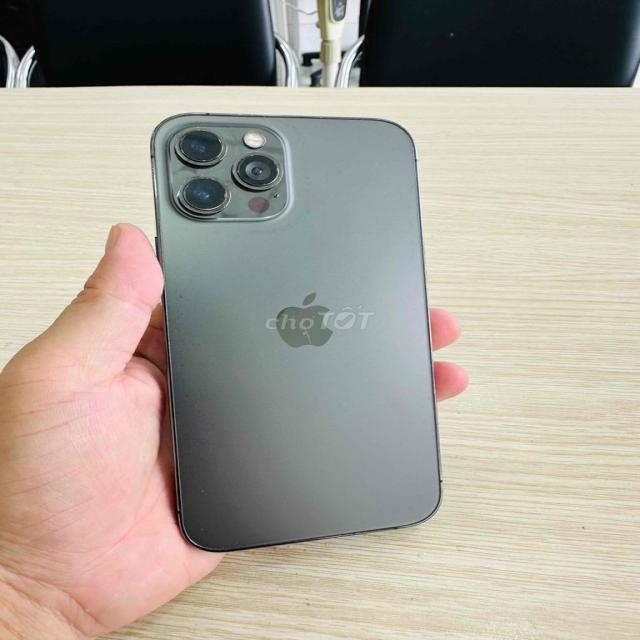gen_12_13: (147, 108, 448, 554)
